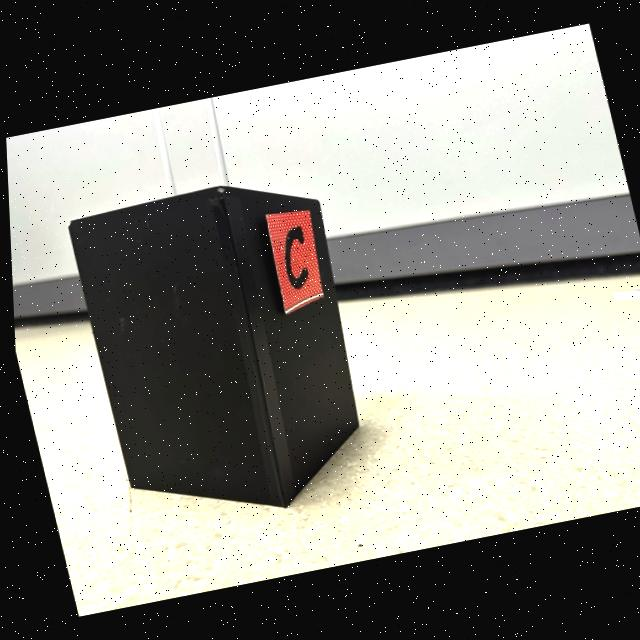C: (283, 228, 305, 289)
